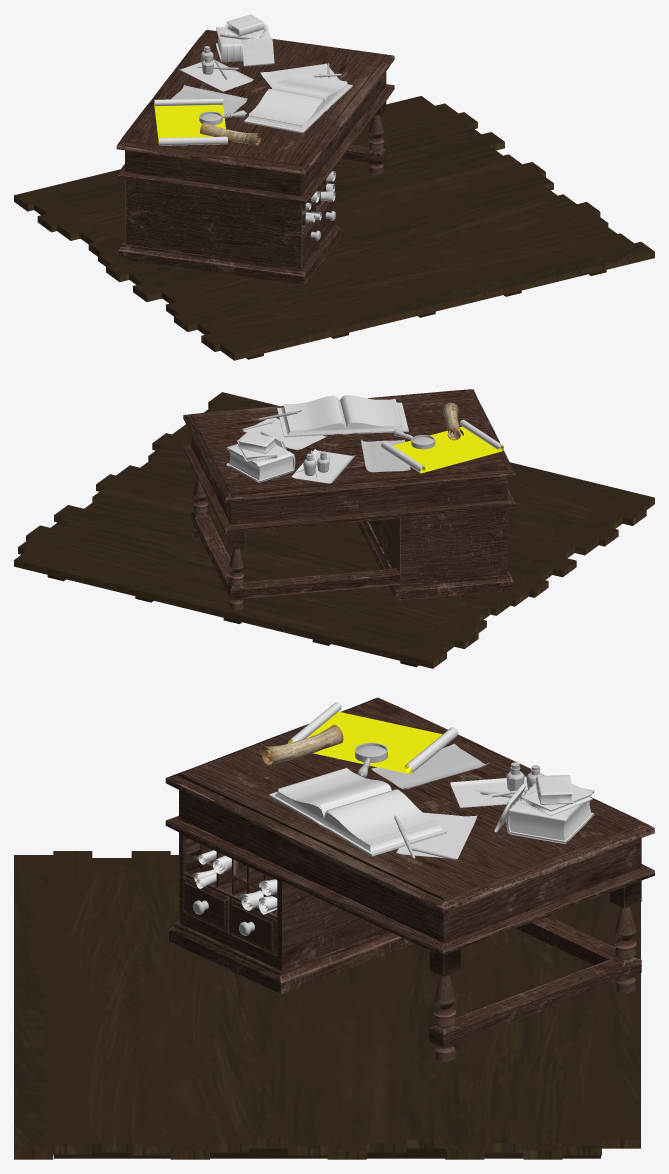
File: Desk Diorama.fbx
The picture shows the model from 3 angles, top to bottom: view 1: azimuth 30°, elevation 25°; view 2: azimuth 150°, elevation 25°; view 3: azimuth 270°, elevation 25°; orthographic projection. The views are drawn at different scales.
Visible parts, largest first — view 1: Floor, Top_Desk_low, Scroll_Box_low, Pages5, Map, Book:Book_Cover (×2), Paper3, Book1:Book_Cover, Paper1, Lunar_Scrolls, Paper2, Pages_Bulk2 (+1 smaller); view 2: Floor, Top_Desk_low, Scroll_Box_low, Pages5, Map, Book:Book_Cover (×2), Paper1, Round_Leg_low, Pages_Bulk2, Book:Pages, Paper3, Paper2 (+2 smaller); view 3: Floor, Top_Desk_low, Scroll_Box_low, Pages5, Map, pCube7, Round_Leg_low, Paper1, Book:Book_Cover (×2), Paper2, Book:Pages, Lunar_Scrolls (+3 smaller).
Boxes of the visible parts, left/top/right/bottom form: Floor: left=14, top=96, right=654, bottom=360; Top_Desk_low: left=116, top=29, right=394, bottom=204; Scroll_Box_low: left=118, top=169, right=340, bottom=284; Pages5: left=249, top=71, right=346, bottom=123; Map: left=154, top=98, right=227, bottom=145; Book:Book_Cover (×2): left=216, top=14, right=270, bottom=62; Paper3: left=178, top=59, right=253, bottom=91; Book1:Book_Cover: left=241, top=37, right=274, bottom=66; Paper1: left=171, top=85, right=247, bottom=114; Lunar_Scrolls: left=200, top=122, right=261, bottom=145; Paper2: left=260, top=63, right=339, bottom=87; Pages_Bulk2: left=247, top=83, right=349, bottom=129; Floor: left=14, top=392, right=654, bottom=668; Top_Desk_low: left=183, top=389, right=515, bottom=600; Scroll_Box_low: left=357, top=508, right=513, bottom=600; Pages5: left=284, top=395, right=401, bottom=429; Map: left=381, top=419, right=503, bottom=473; Book:Book_Cover (×2): left=226, top=432, right=295, bottom=482; Paper1: left=361, top=439, right=410, bottom=472; Round_Leg_low: left=193, top=478, right=243, bottom=610; Pages_Bulk2: left=281, top=402, right=404, bottom=434; Book:Pages: left=228, top=450, right=292, bottom=480; Paper3: left=292, top=449, right=355, bottom=483; Paper2: left=243, top=417, right=326, bottom=449; Floor: left=14, top=851, right=640, bottom=1159; Top_Desk_low: left=165, top=697, right=654, bottom=1048; Scroll_Box_low: left=169, top=832, right=414, bottom=994; Pages5: left=278, top=768, right=438, bottom=843; Map: left=288, top=702, right=458, bottom=774; pCube7: left=54, top=1148, right=600, bottom=1158; Round_Leg_low: left=434, top=906, right=636, bottom=1062; Paper1: left=371, top=743, right=488, bottom=789; Book:Book_Cover (×2): left=506, top=775, right=594, bottom=844; Paper2: left=396, top=812, right=477, bottom=859; Book:Pages: left=509, top=796, right=591, bottom=840; Lunar_Scrolls: left=259, top=725, right=343, bottom=765.
Size of the model in its own units: 57.64 by 21.77 by 52.17.
